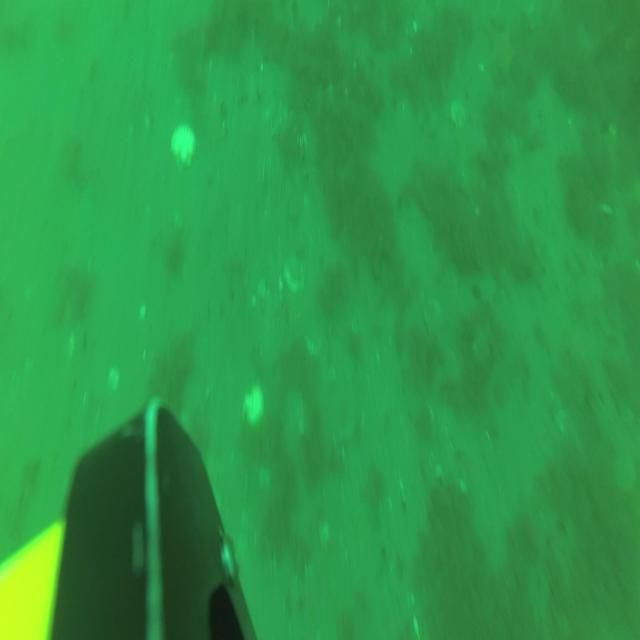scallop: (278, 388, 306, 446), (169, 126, 197, 170), (242, 382, 266, 430), (414, 104, 443, 142), (282, 254, 307, 294), (422, 298, 446, 338), (449, 98, 468, 128)
starfish: (488, 28, 518, 75)
